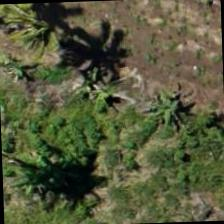Kelapa_Sawit: (0, 1, 86, 78)
